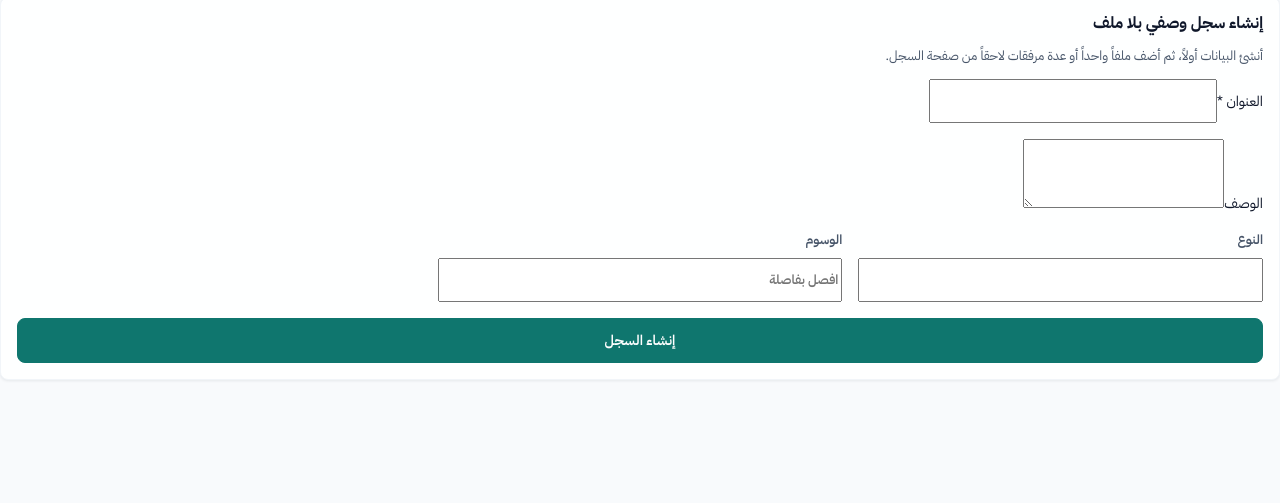
Scenario: FilelessRecordForm › creates a record, shows a success banner with a link, and keeps the form ready
Type "شهادة" into the field labelled "العنوان *" at (1073, 101), box [929,79,1217,123]
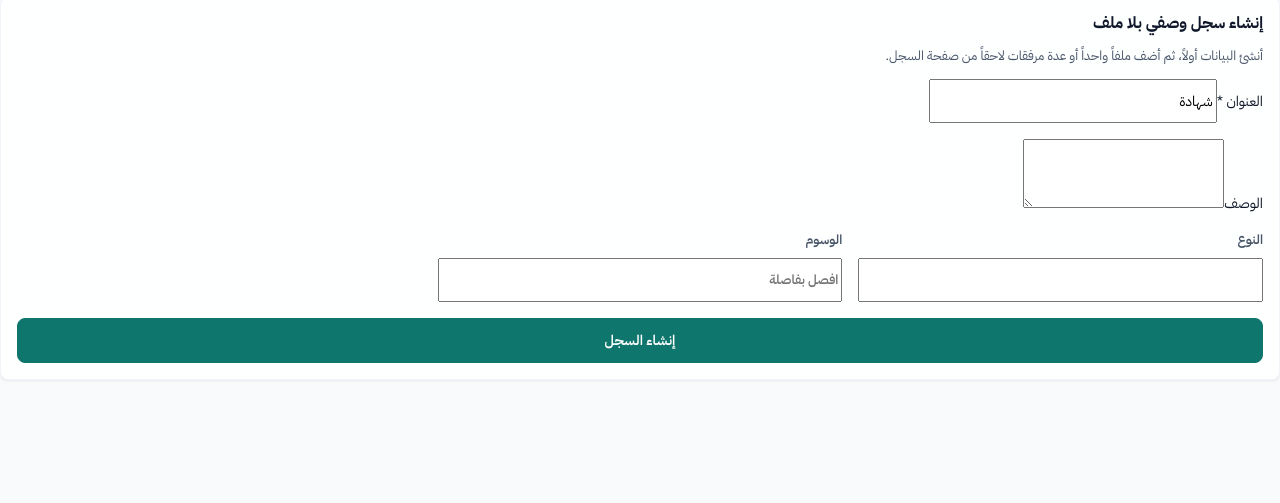
Click the button "إنشاء السجل" at (640, 340), box [17,318,1263,363]
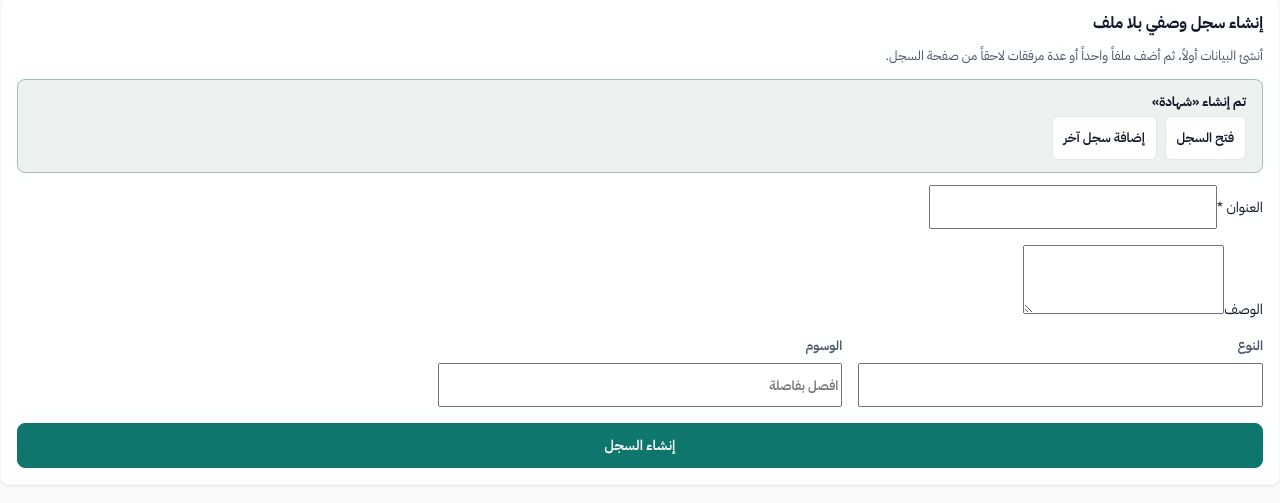
Expected: the message shows "تم إنشاء «شهادة»", [1152,92,1246,111]
Expected: the field labelled "العنوان *" is empty, [929,185,1217,229]
